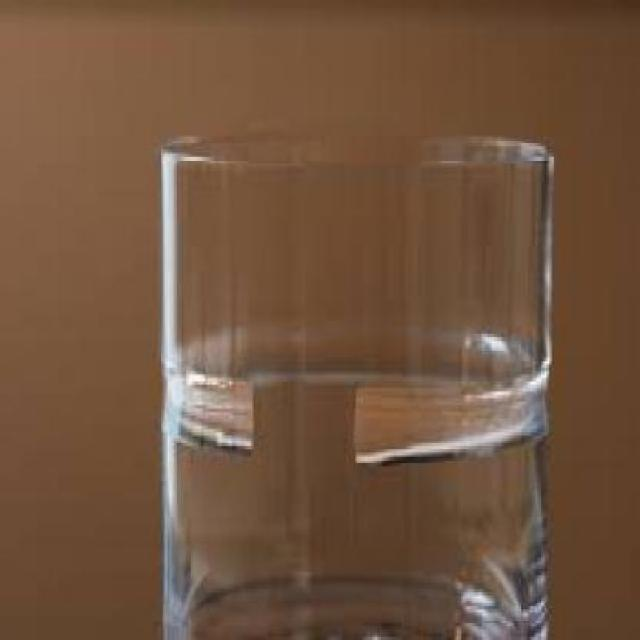kaca: (155, 132, 551, 637)
